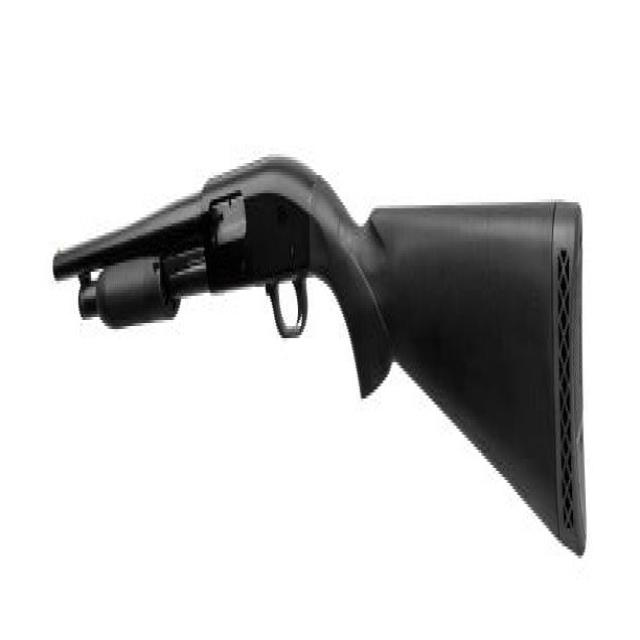rifle: (52, 144, 591, 566)
